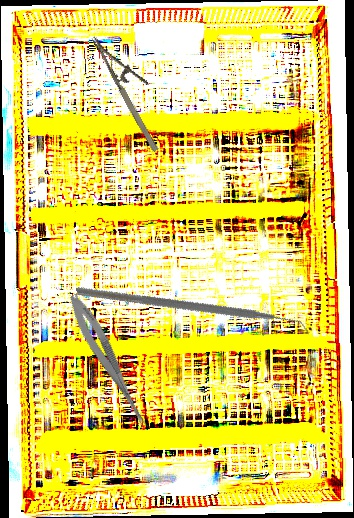Chopper: (75, 209, 312, 419)
Micro Scissor: (62, 290, 158, 433)
Needle Holder: (91, 24, 177, 154)
